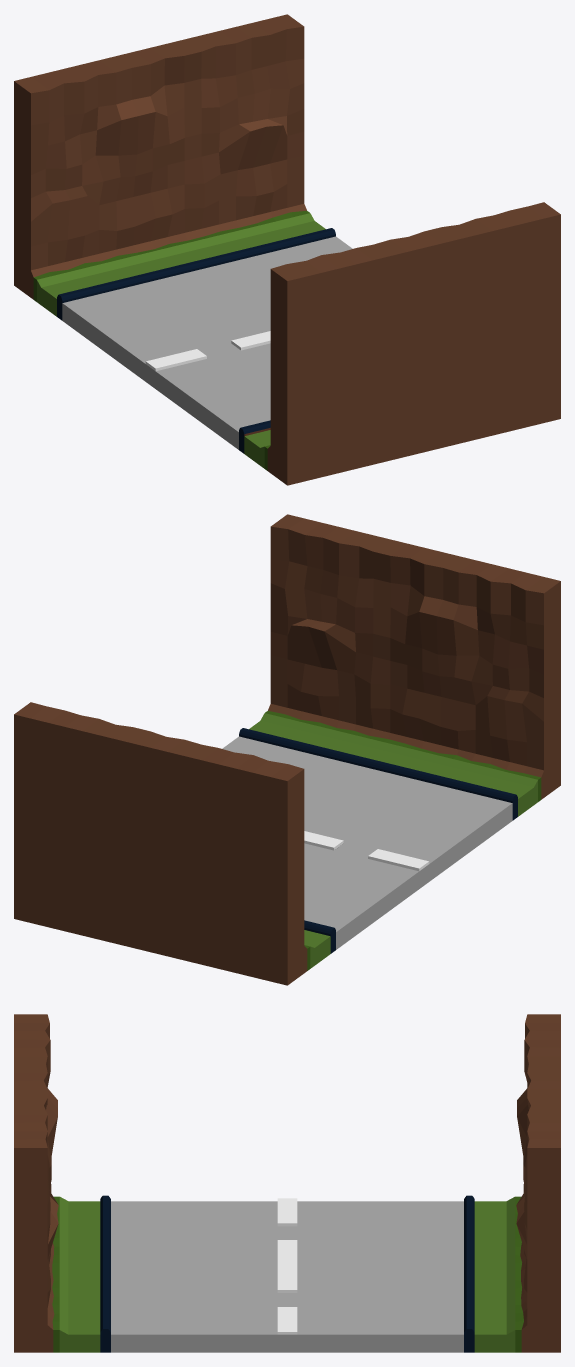
Rendered from NewRoad2.fbx.
3 renders of one model, top to bottom at view 1: azimuth 30°, elevation 25°; view 2: azimuth 150°, elevation 25°; view 3: azimuth 270°, elevation 25°, orthographic.
Parts seen in each view (by area): view 1: Cube; view 2: Cube; view 3: Cube.
Part boxes in pixels (box(x1,y1,x2,y2)): Cube: box(14, 14, 560, 485); Cube: box(14, 514, 560, 985); Cube: box(14, 1014, 560, 1352).
Size of the model in its own units: 1606 by 1151 by 2782.
1 material, 1 textured.
